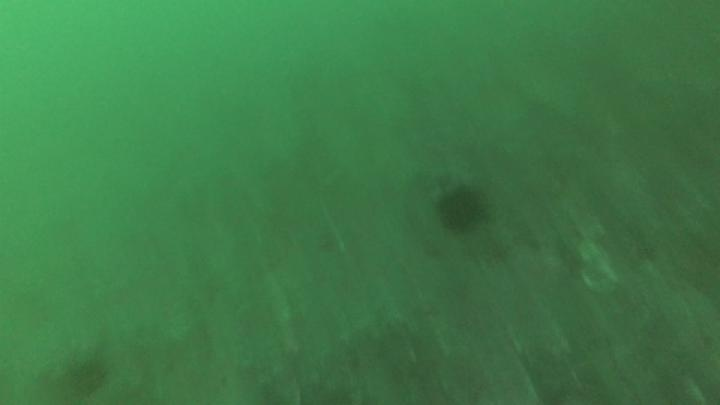echinus: (434, 182, 489, 235), (61, 352, 111, 402)
